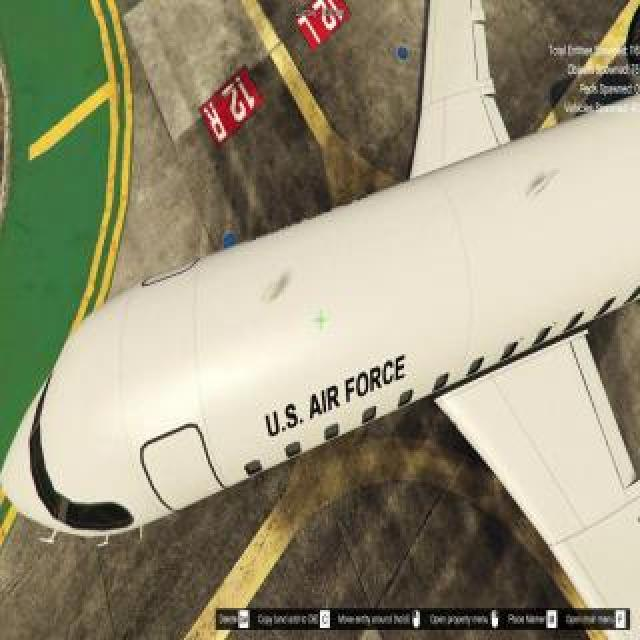dent: (261, 269, 293, 311)
